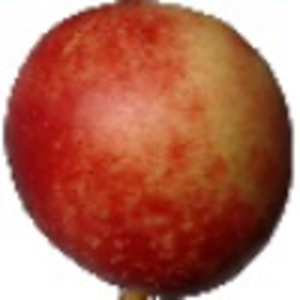nectarina: (3, 1, 296, 300)
